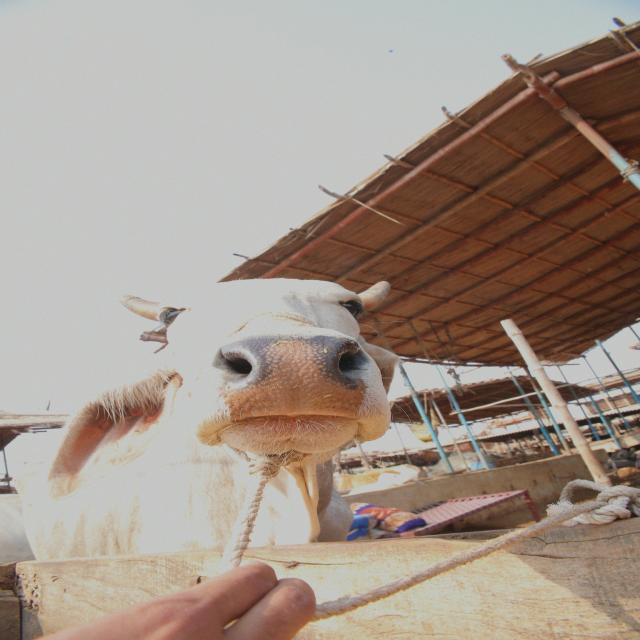muzzles: (206, 328, 384, 428)
